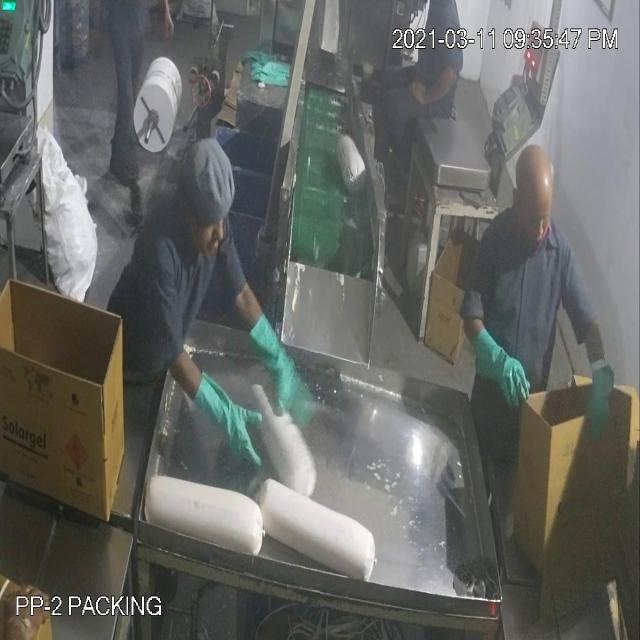gloves: (190, 371, 274, 494), (252, 302, 312, 433), (474, 304, 530, 409), (578, 354, 614, 448)
no-gloves: (395, 62, 469, 116)
